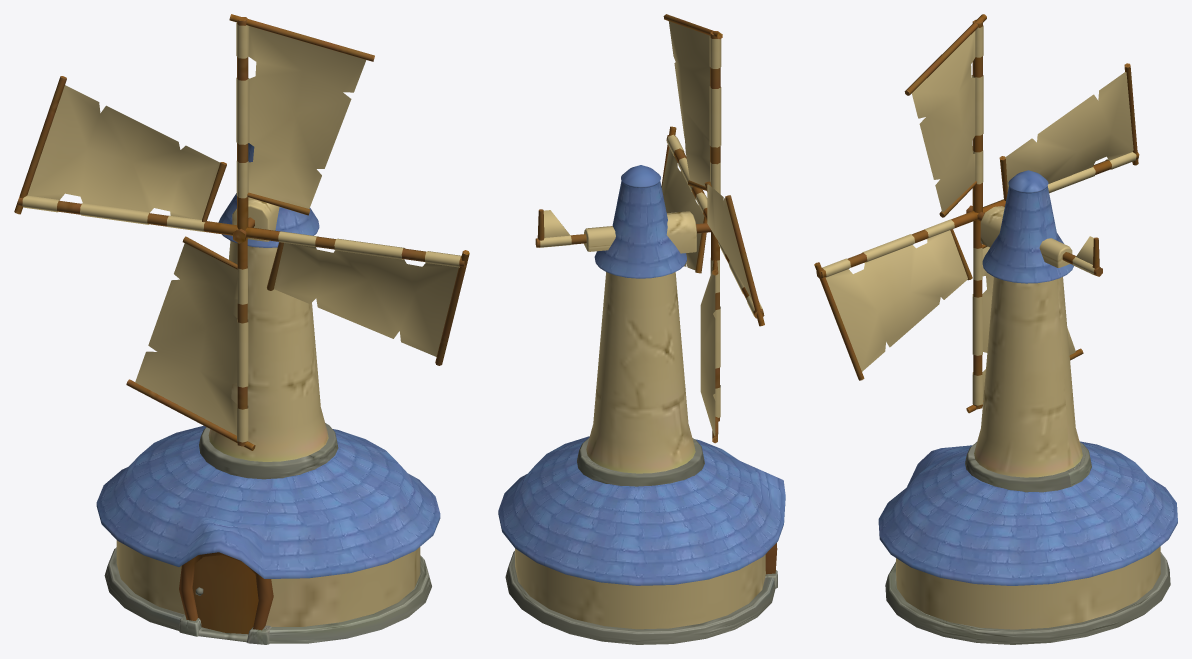
The model's file is Windmill.glb.
The picture shows the model from 3 angles, left to right: view 1: azimuth 30°, elevation 25°; view 2: azimuth 150°, elevation 25°; view 3: azimuth 270°, elevation 25°; orthographic projection. The views are drawn at different scales.
Parts seen in each view (by area): view 1: Windmill, Windmill_Wing; view 2: Windmill, Windmill_Wing; view 3: Windmill, Windmill_Wing.
Boxes of the visible parts, left/top/right/bottom form: Windmill: left=96, top=143, right=440, bottom=644; Windmill_Wing: left=14, top=14, right=469, bottom=450; Windmill: left=498, top=165, right=785, bottom=644; Windmill_Wing: left=661, top=14, right=764, bottom=443; Windmill: left=878, top=170, right=1177, bottom=644; Windmill_Wing: left=814, top=14, right=1139, bottom=413.
Bounding box in the file's own units: 10.15 × 17.27 × 10.47.
Materials: 2 (2 with a texture image).
